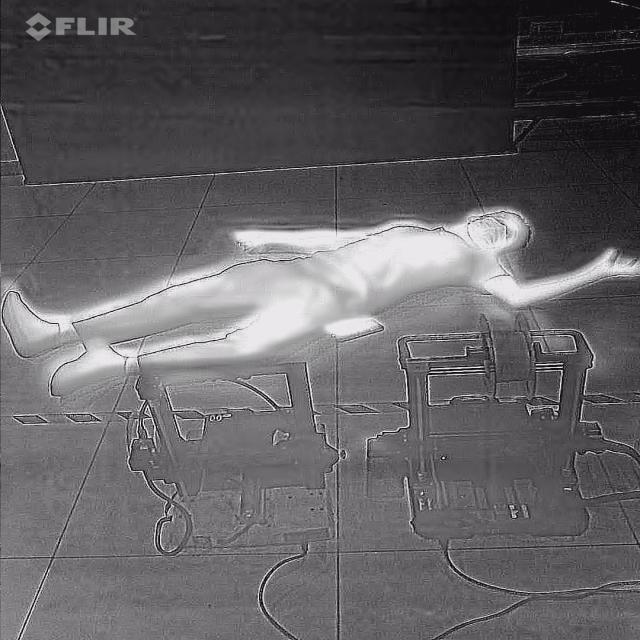Victim: (0, 203, 638, 406)
